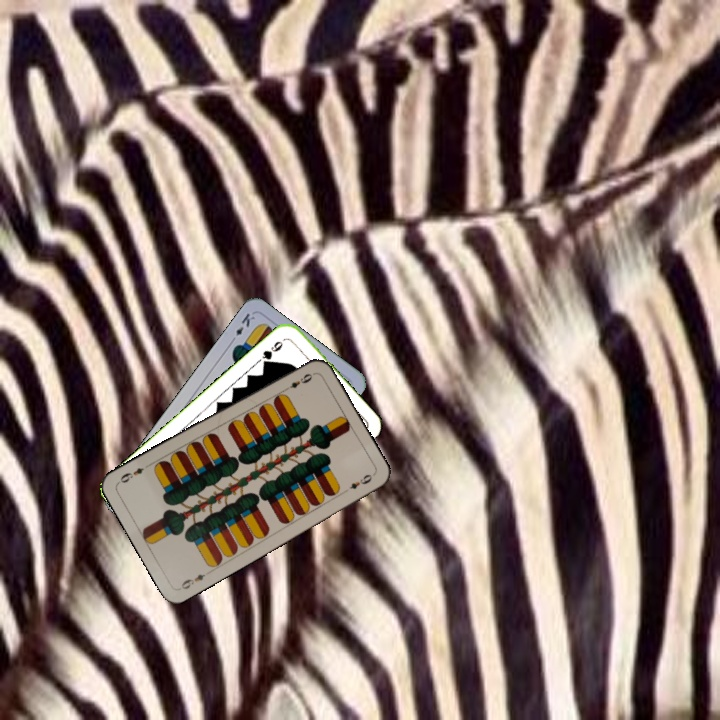E9: (280, 369, 317, 394), (177, 570, 208, 592)
EK: (226, 309, 258, 346)
G9: (258, 337, 286, 368)
